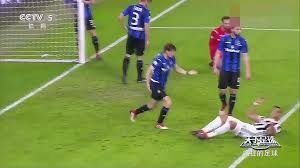falling: (189, 94, 289, 142)
